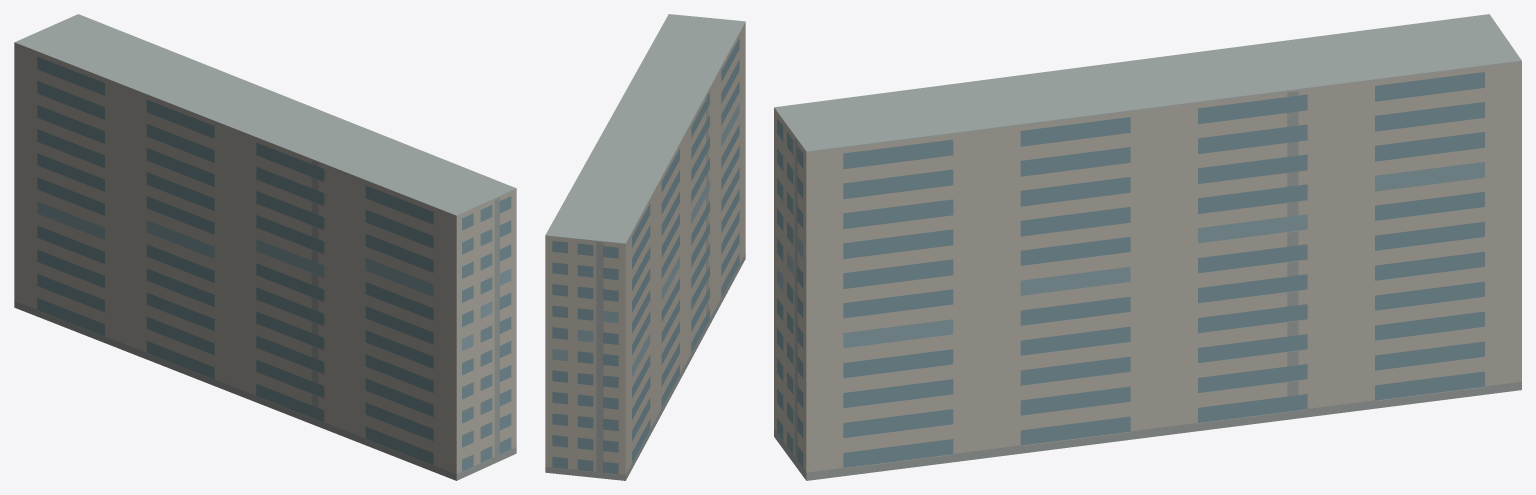
File: residential-0a1378d1-32aa-4b28-8d5e-79e943df240b.glb
3 views of the same model, side by side, from view 1: azimuth 30°, elevation 25°; view 2: azimuth 150°, elevation 25°; view 3: azimuth 270°, elevation 25° (orthographic). The views are drawn at different scales.
Parts seen in each view (by area): view 1: residential-0a1378d1-32aa-4b28-8d5e-79e943df240b.tmp; view 2: residential-0a1378d1-32aa-4b28-8d5e-79e943df240b.tmp; view 3: residential-0a1378d1-32aa-4b28-8d5e-79e943df240b.tmp.
Boxes of the visible parts, x1,y1,x2,y2 form: residential-0a1378d1-32aa-4b28-8d5e-79e943df240b.tmp: (14,14,516,480); residential-0a1378d1-32aa-4b28-8d5e-79e943df240b.tmp: (545,14,745,480); residential-0a1378d1-32aa-4b28-8d5e-79e943df240b.tmp: (774,14,1521,480).
Size of the model in its own units: 34.03 by 38 by 78.19.
